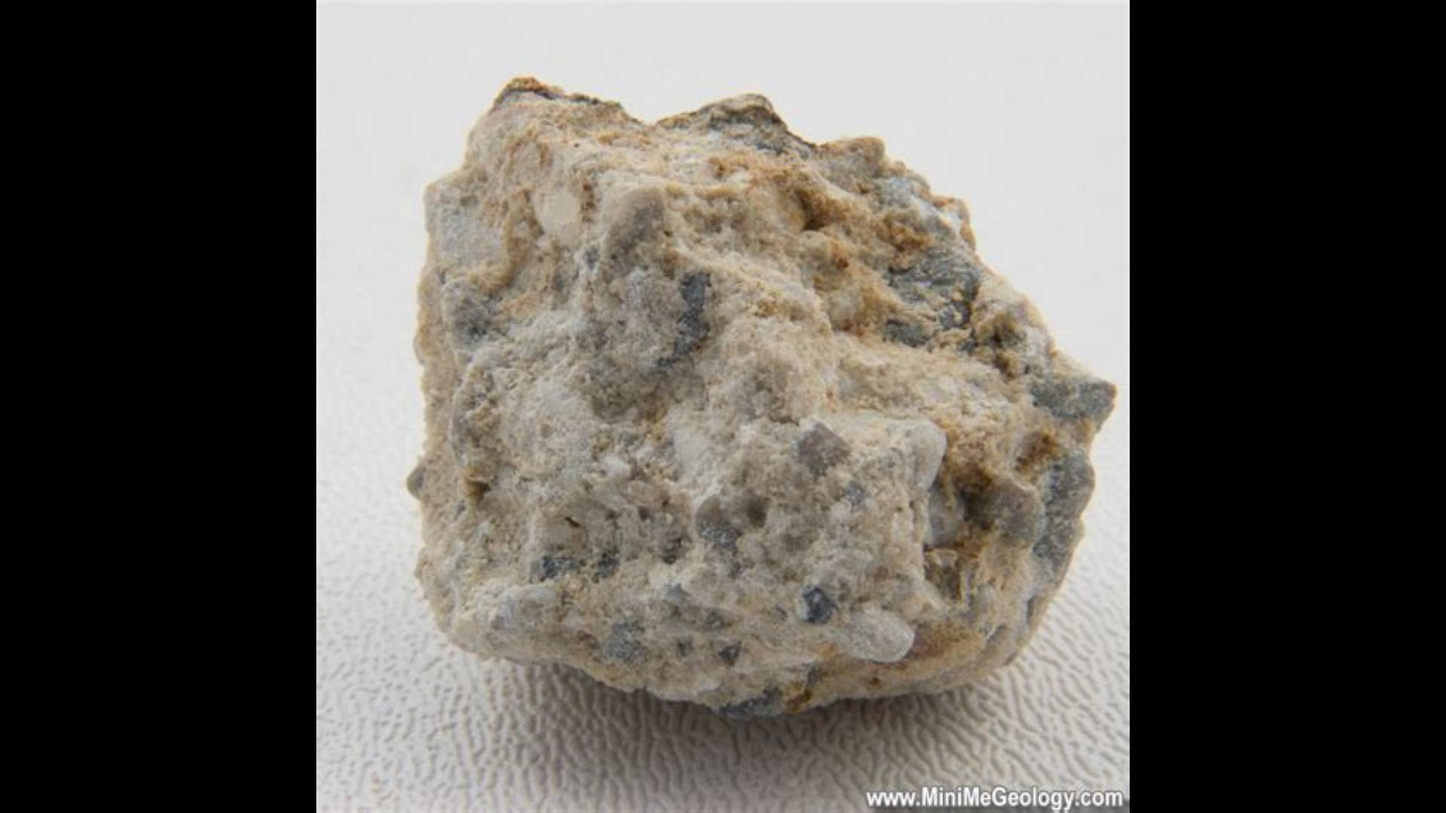rock: (409, 84, 1113, 712)
